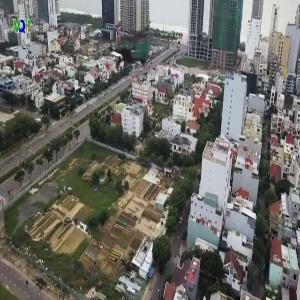drone: (67, 13, 186, 132)
